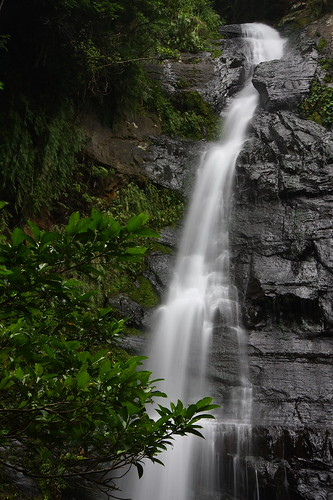wufengciWaterfall: (103, 13, 297, 492)
